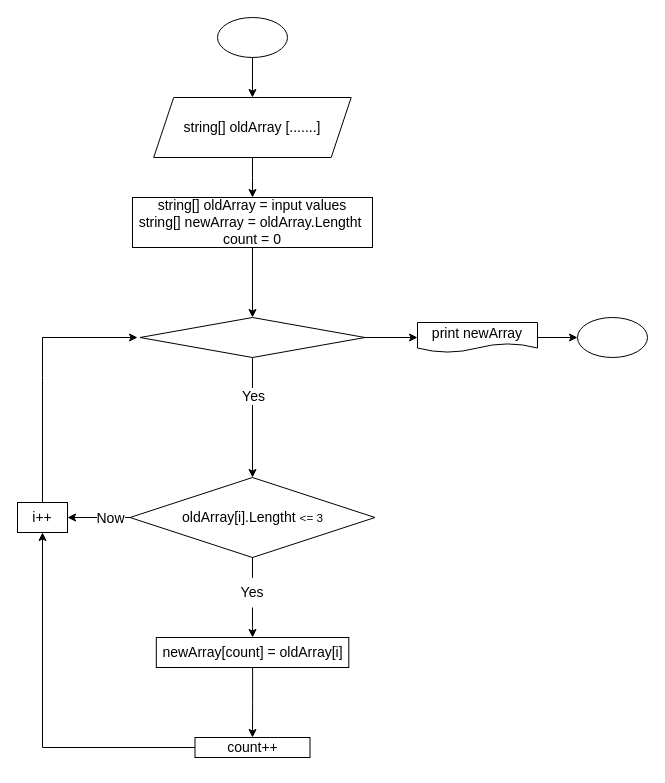
Image size: 665x783. Some labels were removed from this diagram. Each missing label, with the centre of its shape:
"End" goes at point 612,337.
"i < oldArray.Lengtht" goes at point 252,337.
"Start" goes at point 252,37.
